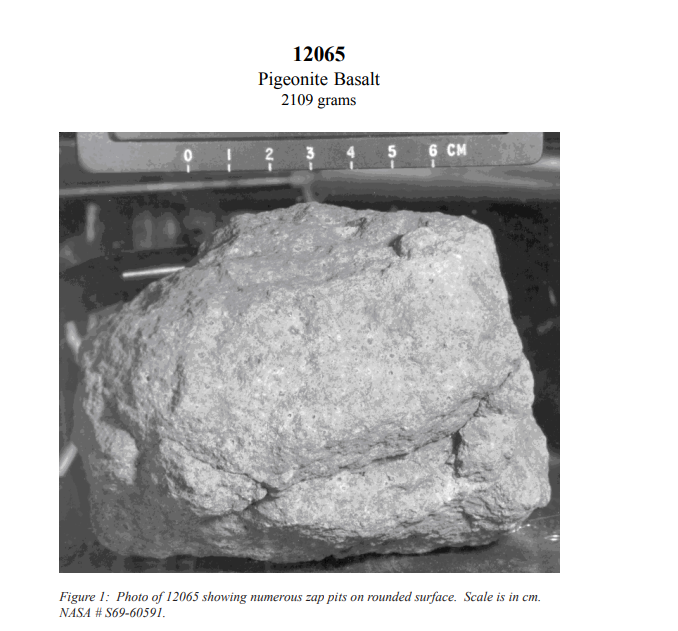Basalt: (55, 173, 563, 558)
